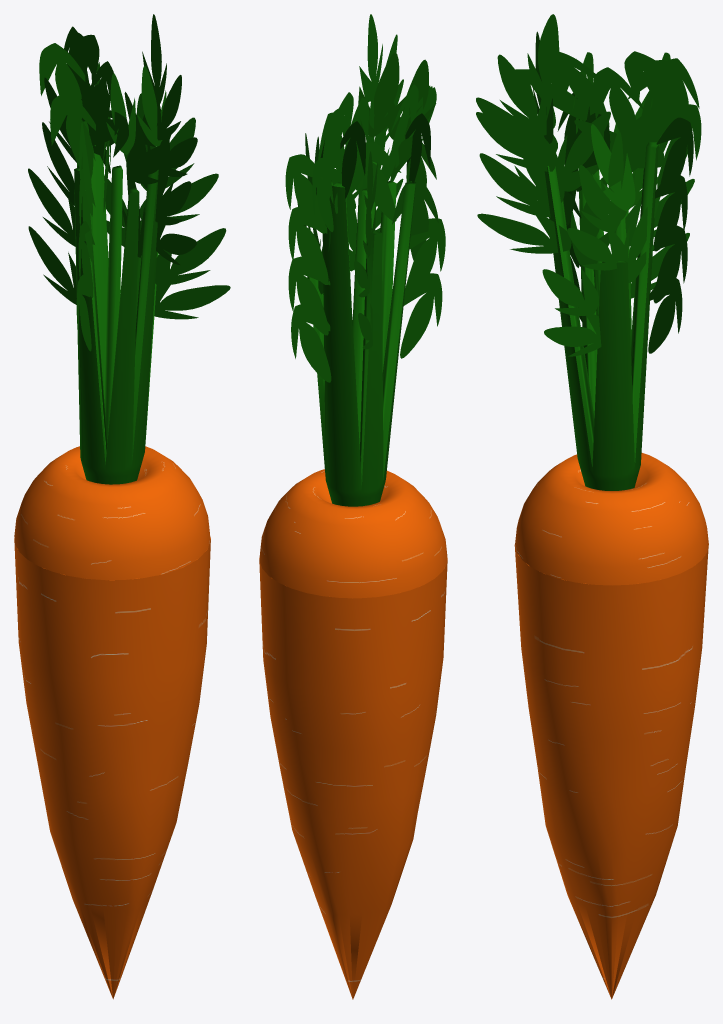
Rendered from 紅蘿蔔成熟.FBX.
3 views of the same model, side by side, from view 1: azimuth 30°, elevation 25°; view 2: azimuth 150°, elevation 25°; view 3: azimuth 270°, elevation 25° (orthographic). The views are drawn at different scales.
Visible parts, largest first — view 1: Cone001, Cone002, Sphere001, Line014, Line025, Line010, Line024, Line039, Line038, Line035, Line005, Line037 (+16 smaller); view 2: Cone001, Cone002, Sphere001, Line043, Line032, Line011, Line031, Line042, Line033, Line005, Line015, Line041 (+13 smaller); view 3: Cone001, Sphere001, Cone002, Line002, Line017, Line001, Line004, Line019, Line026, Line003, Line033, Line031 (+21 smaller).
Part boxes in pixels (left/top/right/bottom): Cone001: left=14, top=537, right=210, bottom=999; Cone002: left=74, top=145, right=158, bottom=484; Sphere001: left=14, top=446, right=210, bottom=580; Line014: left=50, top=92, right=95, bottom=179; Line025: left=155, top=228, right=226, bottom=285; Line010: left=39, top=43, right=89, bottom=118; Line024: left=154, top=285, right=230, bottom=319; Line039: left=28, top=226, right=76, bottom=304; Line038: left=28, top=168, right=75, bottom=246; Line035: left=126, top=136, right=167, bottom=184; Line005: left=137, top=66, right=166, bottom=146; Line037: left=42, top=122, right=78, bottom=205; Cone001: left=259, top=558, right=447, bottom=999; Cone002: left=309, top=161, right=415, bottom=506; Sphere001: left=259, top=469, right=447, bottom=598; Line043: left=400, top=273, right=442, bottom=358; Line032: left=288, top=256, right=330, bottom=335; Line011: left=285, top=154, right=325, bottom=233; Line031: left=288, top=206, right=328, bottom=284; Line042: left=404, top=218, right=445, bottom=295; Line033: left=291, top=304, right=331, bottom=382; Line005: left=358, top=52, right=405, bottom=137; Line015: left=356, top=142, right=401, bottom=221; Line041: left=392, top=179, right=438, bottom=260; Cone001: left=514, top=544, right=708, bottom=999; Sphere001: left=515, top=453, right=708, bottom=585; Cone002: left=544, top=142, right=658, bottom=490; Line002: left=476, top=112, right=557, bottom=171; Line017: left=477, top=209, right=571, bottom=253; Line001: left=527, top=14, right=576, bottom=103; Line004: left=497, top=54, right=555, bottom=135; Line019: left=479, top=153, right=550, bottom=217; Line026: left=593, top=67, right=642, bottom=142; Line003: left=555, top=111, right=610, bottom=191; Line033: left=648, top=275, right=682, bottom=353; Line031: left=654, top=172, right=687, bottom=251.
Bounding box in the file's own units: 28.32 × 161 × 33.99.
Materials: 2 (1 with a texture image).
